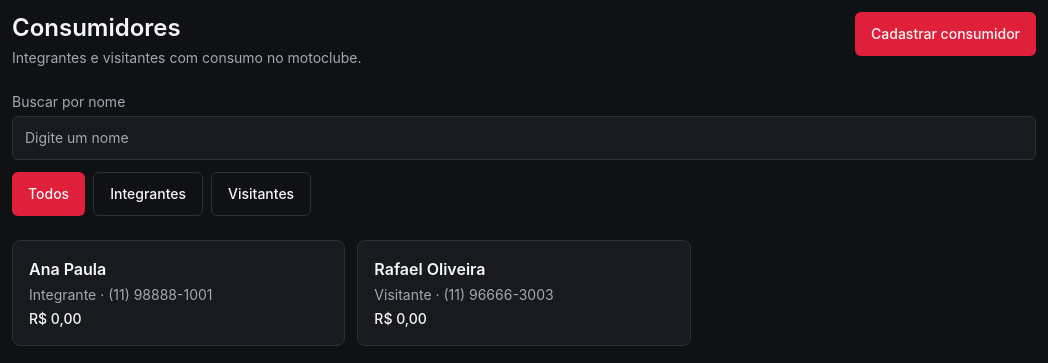
Scenario: ConsumersView › filters the list by a name search
Check: the button "Ana Paula Integrante · (11) 98888-1001 R$ 0,00" is shown, box [12,240,345,346]
Type "rafael" into the search field labelled "Buscar por nome" at (524, 138), box [12,116,1036,160]
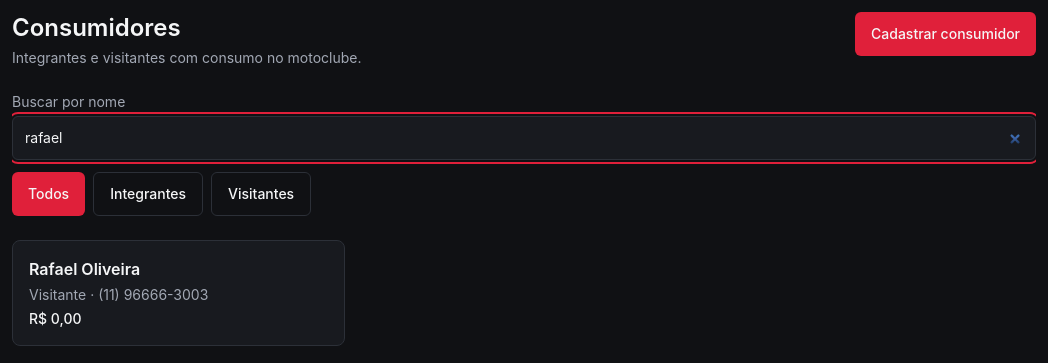
Check: the button "Rafael Oliveira Visitante · (11) 96666-3003 R$ 0,00" is shown, box [12,240,345,346]
Check: the button "Ana Paula" is gone
